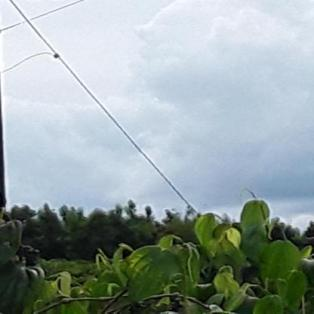Poste: (0, 0, 21, 202)
